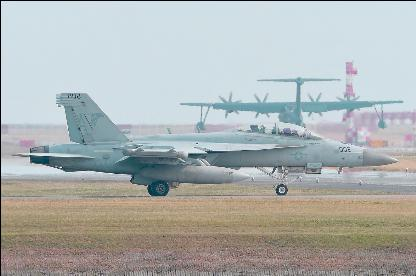F15: (7, 91, 398, 194)
Tu95: (178, 75, 404, 129)
